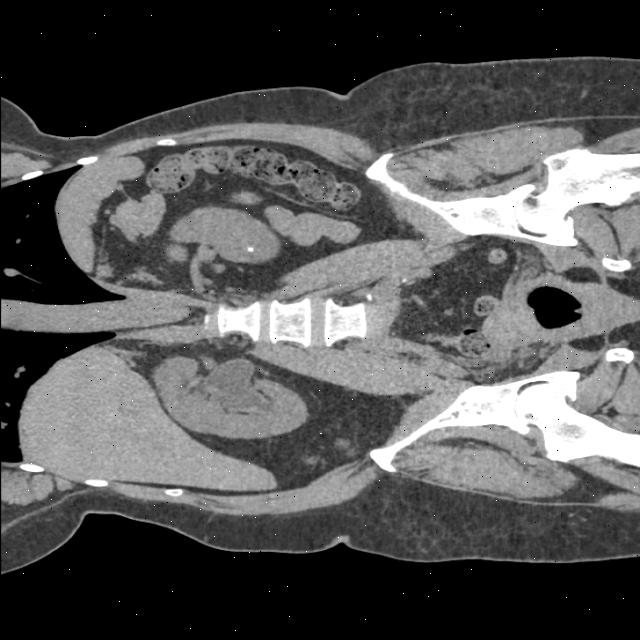kidneystone: (247, 244, 254, 251)
